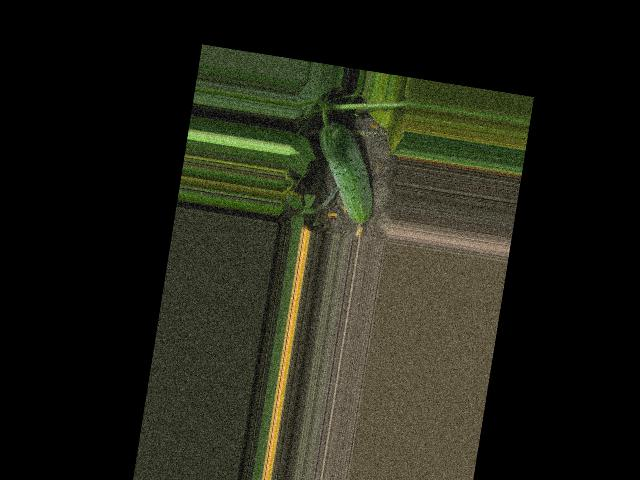cucumber: (304, 120, 385, 239)
